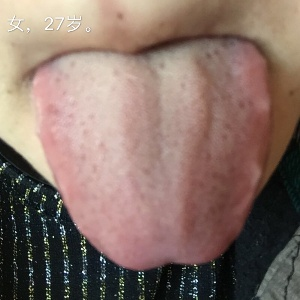st: (22, 74, 282, 268)
